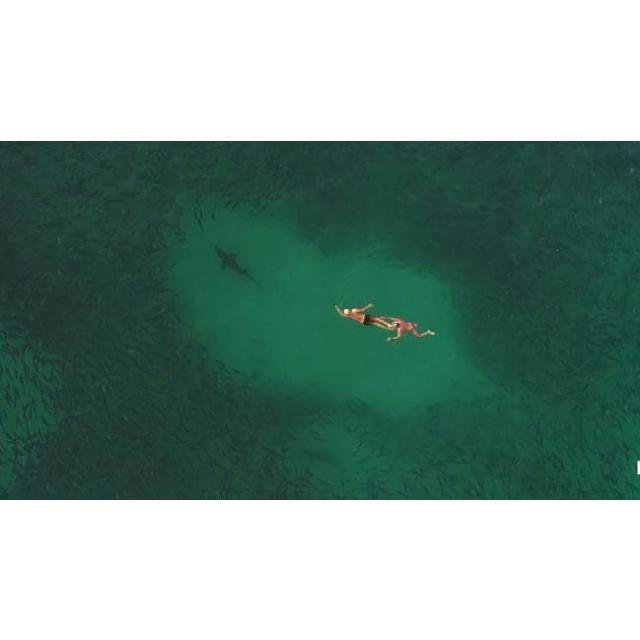human: (334, 299, 389, 326), (389, 317, 436, 343)
